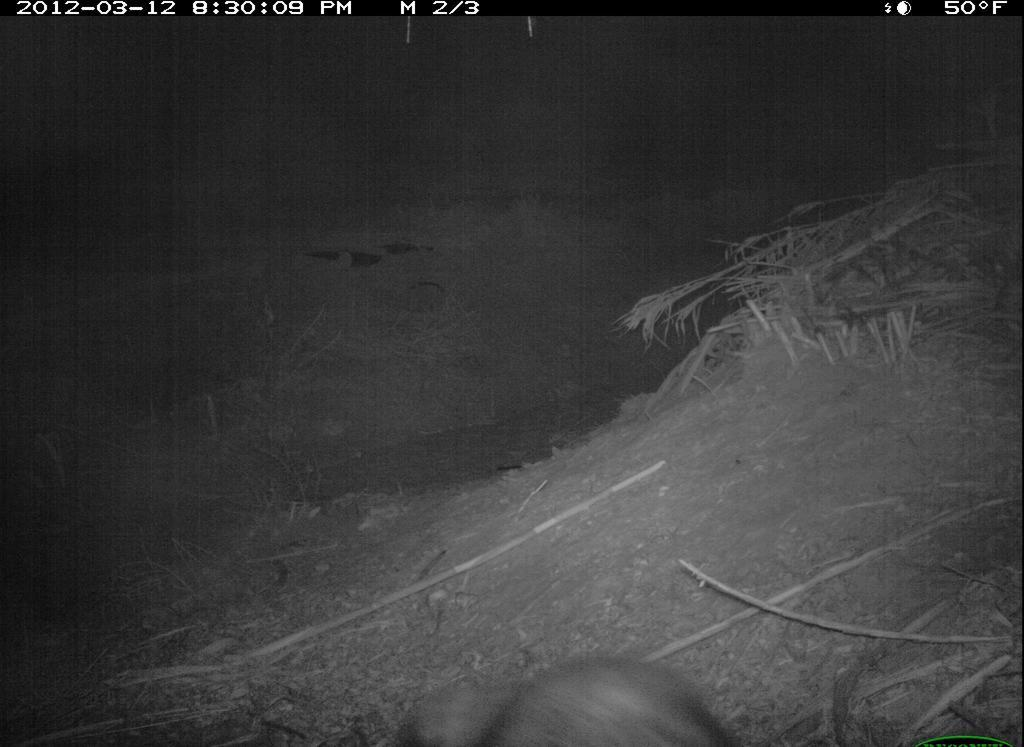raccoon: (377, 656, 745, 747)
